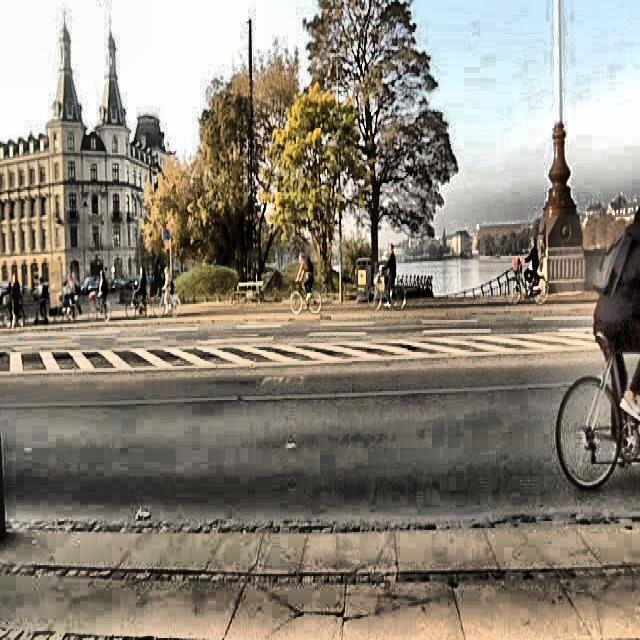bicycle: (560, 327, 640, 494)
